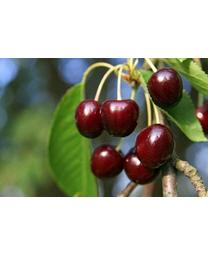cherry: (135, 123, 174, 170), (146, 67, 183, 110), (123, 145, 162, 185), (100, 100, 139, 138), (74, 99, 106, 139), (91, 144, 124, 179)
